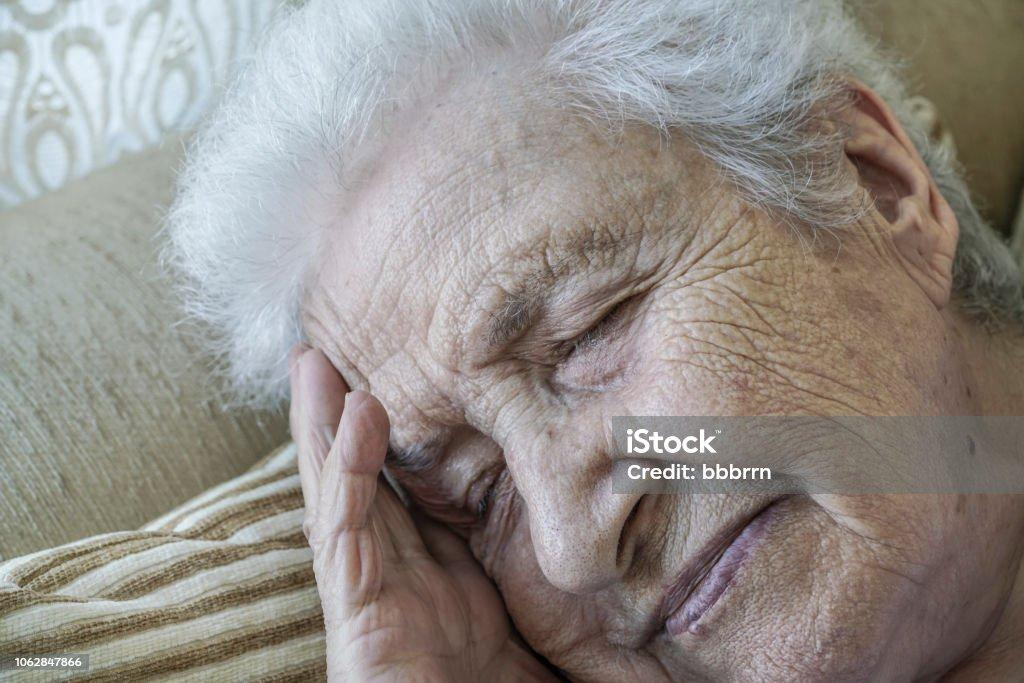Dry-Skin: (683, 273, 886, 395), (733, 593, 934, 683), (571, 438, 753, 534), (341, 278, 465, 384)
